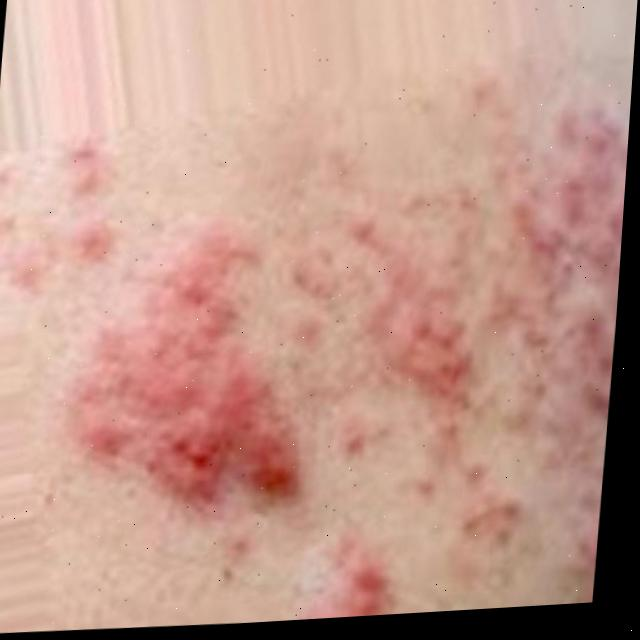Shingles: (68, 80, 632, 633)
